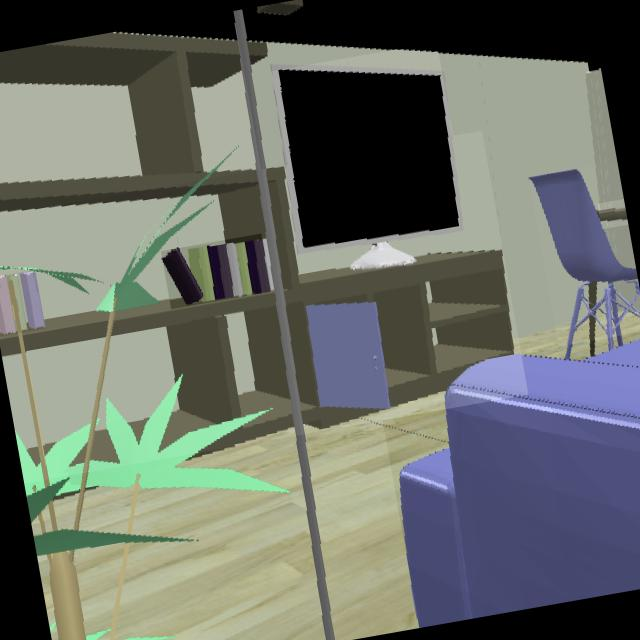book: (163, 239, 271, 304), (0, 273, 45, 335)
bookshelf: (0, 167, 516, 467), (0, 31, 269, 246)
chair: (528, 170, 640, 359)
monitor: (278, 70, 464, 270)
sofa: (399, 338, 640, 627)
table: (599, 200, 628, 225)
